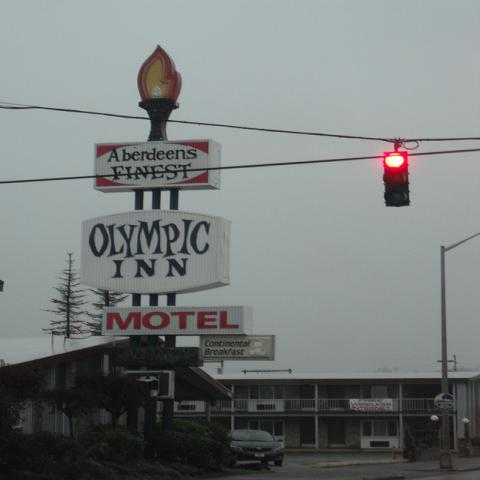car: (228, 429, 284, 466)
